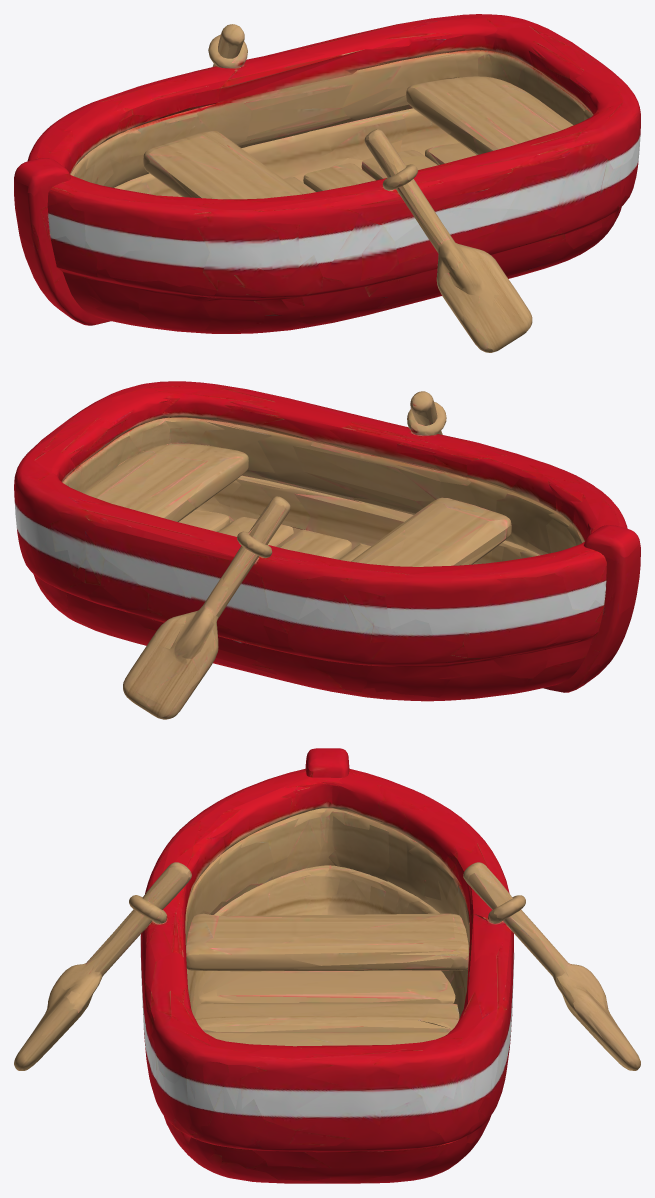
File: boot.glb
The picture shows the model from 3 angles, top to bottom: view 1: azimuth 30°, elevation 25°; view 2: azimuth 150°, elevation 25°; view 3: azimuth 270°, elevation 25°; orthographic projection. The views are drawn at different scales.
Visible parts, largest first — view 1: Mesh_0; view 2: Mesh_0; view 3: Mesh_0.
Boxes of the visible parts, <box> form: Mesh_0: <box>14,14,640,352</box>; Mesh_0: <box>14,381,640,719</box>; Mesh_0: <box>14,748,640,1183</box>.
Bounding box in the file's own units: 1.9 × 0.5913 × 1.72.
Materials: 1 (1 with a texture image).
